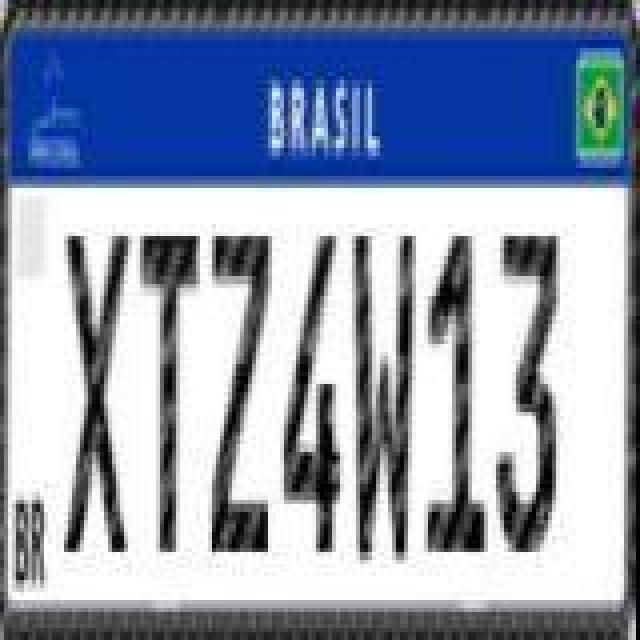1: (426, 232, 490, 560)
3: (492, 226, 560, 558)
4: (278, 234, 342, 558)
T: (138, 228, 202, 556)
W: (350, 230, 414, 570)
X: (62, 228, 134, 556)
Z: (210, 228, 274, 556)
